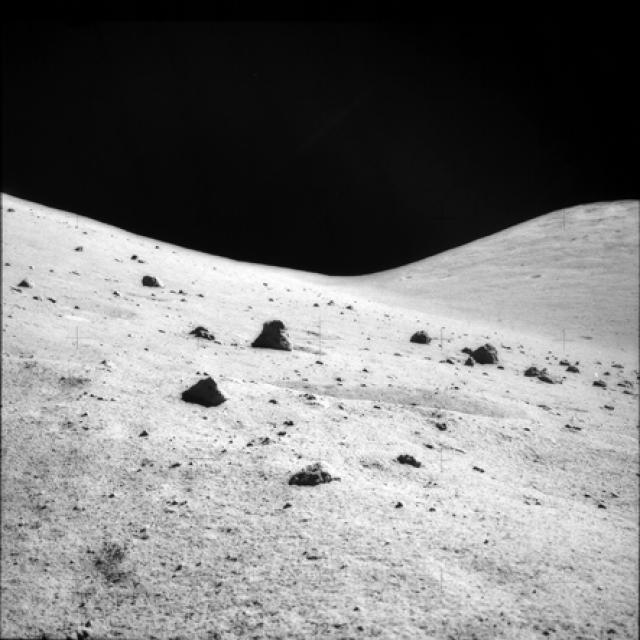crater: (302, 380, 532, 436)
rock: (176, 356, 231, 408), (249, 309, 298, 357), (283, 454, 332, 492), (465, 334, 504, 366), (182, 310, 214, 346), (402, 325, 432, 351), (526, 356, 553, 383), (134, 264, 162, 290), (393, 446, 420, 469)
